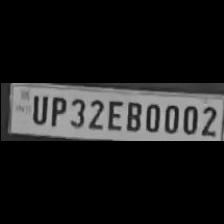0: (160, 102, 180, 134), (179, 102, 197, 136), (142, 100, 160, 132)
2: (197, 102, 217, 136), (85, 97, 103, 131)
3: (66, 95, 84, 129)
B: (123, 98, 141, 132)
E: (104, 96, 122, 132)
P: (46, 94, 66, 128)
U: (27, 94, 47, 126)
